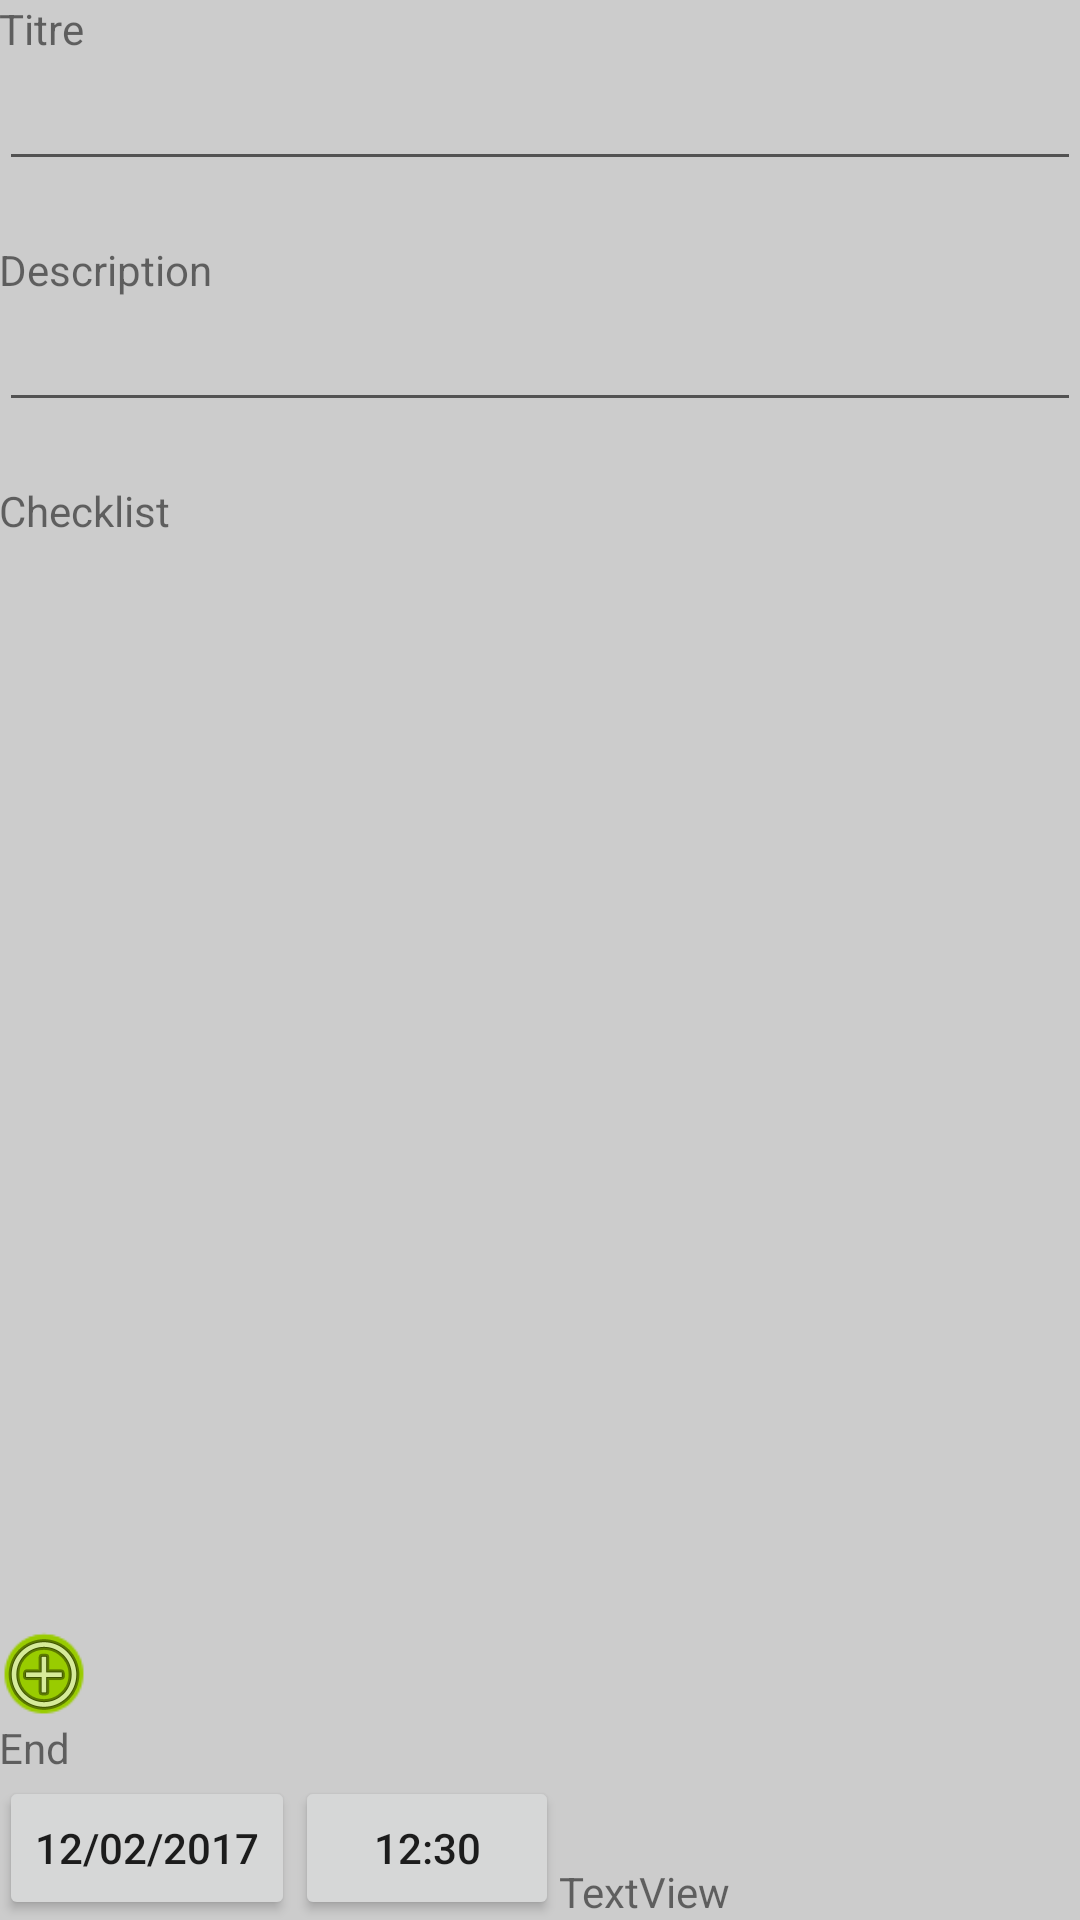

Point at icon controls on the screen. Image size 1080×1920, points as (x,y).
Add Check: (44,1673)
